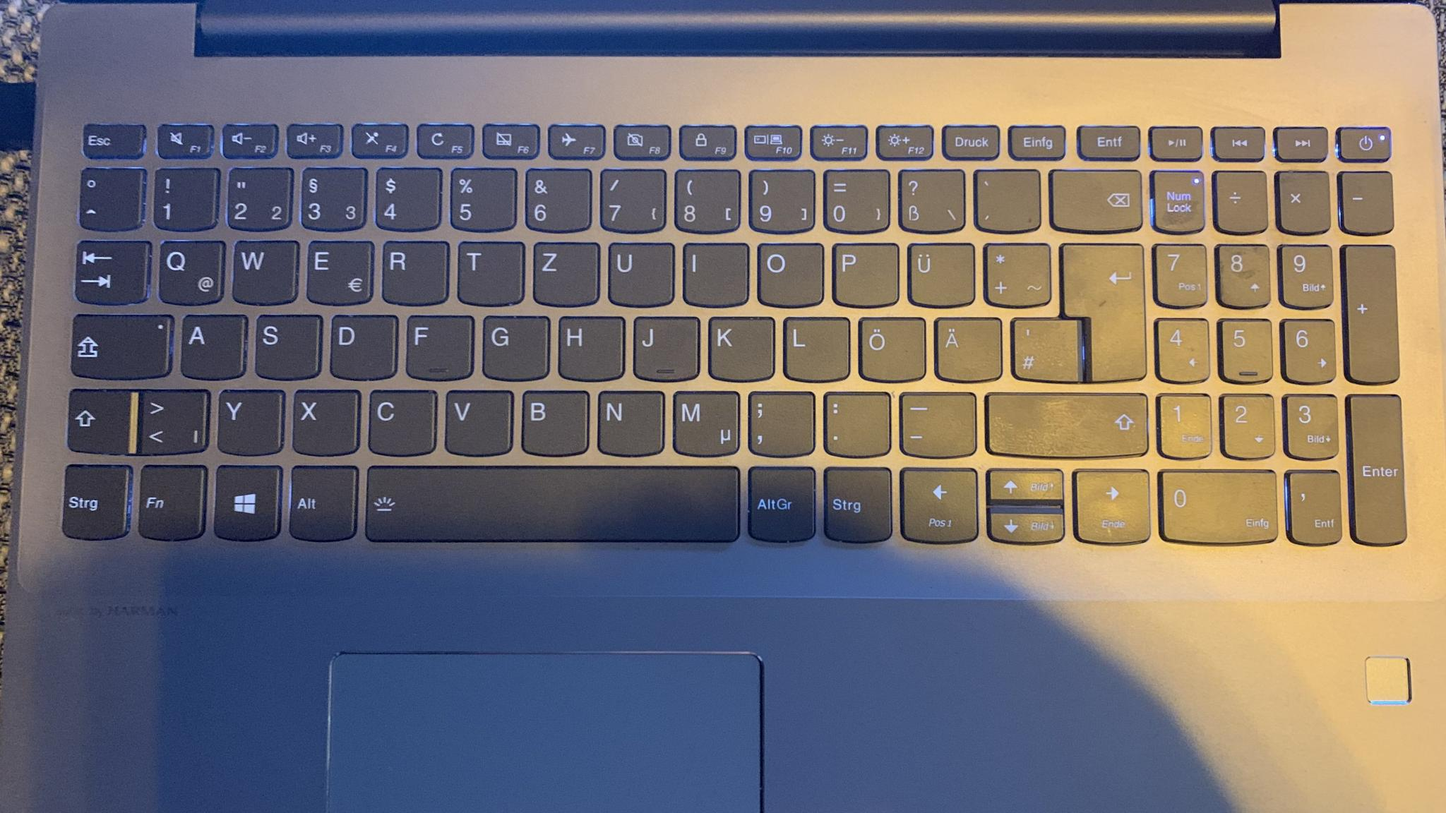0: (821, 167, 890, 231)
1: (152, 165, 217, 230)
2: (225, 164, 292, 229)
3: (298, 164, 367, 230)
4: (374, 164, 440, 229)
5: (448, 166, 515, 230)
6: (523, 166, 591, 231)
7: (599, 167, 666, 231)
8: (673, 167, 740, 231)
9: (747, 167, 815, 231)
a: (179, 312, 245, 378)
accent: (972, 165, 1040, 230)
ae: (932, 314, 1003, 380)
alt-left: (287, 462, 356, 540)
altgr-right: (745, 464, 814, 542)
b: (519, 388, 588, 454)
c: (366, 387, 436, 454)
caret: (77, 165, 141, 229)
comma: (746, 387, 815, 455)
d: (328, 312, 397, 380)
del: (1048, 166, 1142, 231)
e: (304, 237, 372, 303)
enter: (1058, 239, 1146, 382)
f: (404, 312, 472, 378)
g: (480, 313, 548, 379)
h: (556, 314, 623, 379)
hash: (1009, 315, 1079, 380)
i: (681, 241, 748, 306)
j: (631, 313, 698, 380)
k: (706, 313, 775, 380)
keyboard: (50, 106, 1425, 569)
l: (782, 314, 849, 380)
less: (137, 387, 208, 454)
m: (670, 388, 739, 456)
minus: (896, 389, 977, 457)
n: (595, 388, 663, 454)
o: (755, 241, 823, 306)
oe: (856, 314, 925, 380)
p: (830, 240, 899, 306)
plus: (982, 239, 1051, 306)
point: (821, 389, 890, 455)
q: (155, 238, 223, 305)
r: (380, 239, 448, 305)
s: (253, 311, 321, 379)
shift-left: (62, 386, 131, 453)
shift-lock: (66, 311, 170, 378)
shift-right: (983, 387, 1148, 455)
space: (364, 462, 740, 543)
ss: (897, 166, 965, 231)
strg-left: (58, 461, 129, 538)
strg-right: (821, 464, 892, 543)
t: (456, 239, 523, 304)
tab: (71, 236, 147, 304)
u: (606, 240, 674, 306)
ue: (906, 241, 974, 306)
v: (443, 387, 512, 454)
w: (231, 238, 297, 303)
x: (290, 387, 359, 454)
y: (215, 387, 283, 455)
z: (532, 240, 598, 305)
